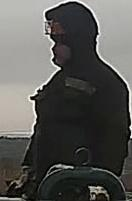gloves: (6, 157, 33, 196)
helmet: (42, 16, 68, 37)
vest: (27, 64, 131, 199)
